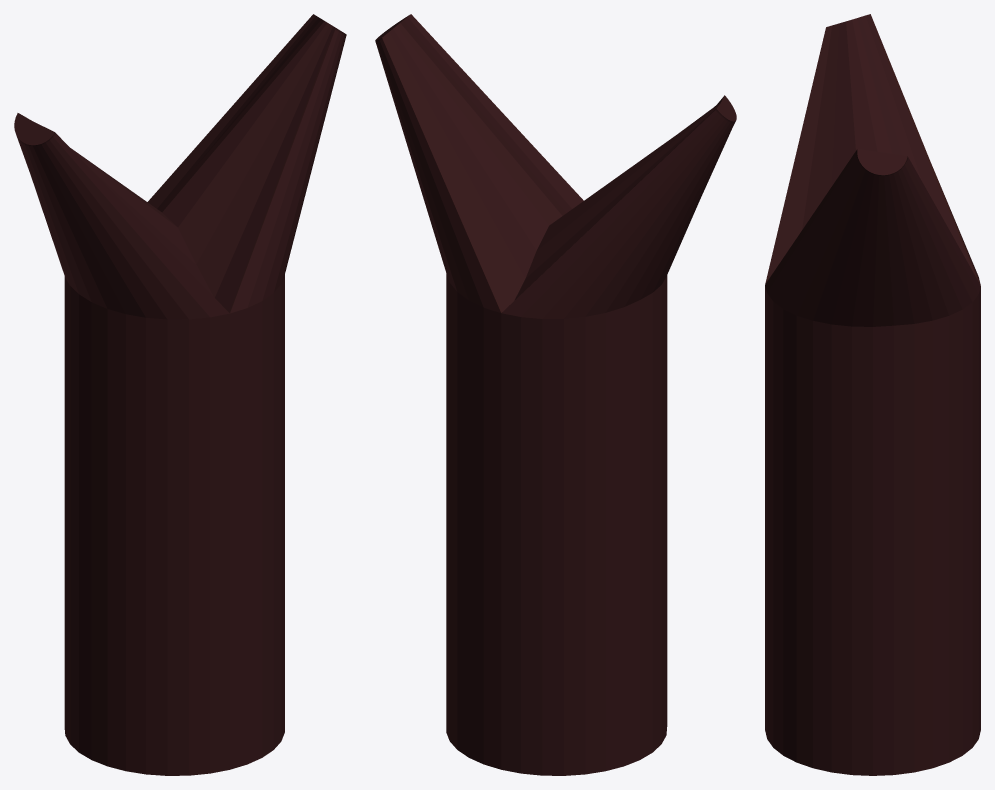
The model's file is dead.glb.
3 views of the same model, side by side, from view 1: azimuth 30°, elevation 25°; view 2: azimuth 150°, elevation 25°; view 3: azimuth 270°, elevation 25° (orthographic). The views are drawn at different scales.
Visible parts, largest first — view 1: dead; view 2: dead; view 3: dead.
Part boxes in pixels (x1,y1,x2,y2): dead: (14, 14, 346, 775); dead: (375, 14, 736, 775); dead: (765, 14, 980, 775).
Bounding box in the file's own units: 0.2532 × 0.4787 × 0.143.
1 material, 1 textured.
